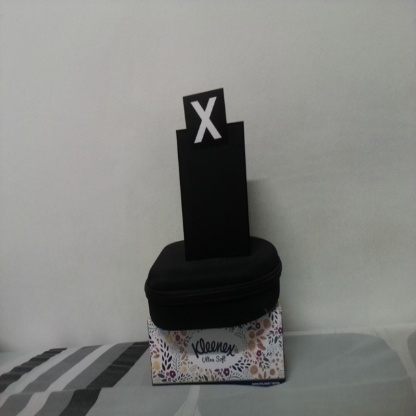id_13: (182, 95, 228, 150)
